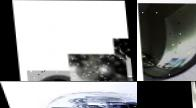ironball: (137, 2, 195, 81), (66, 53, 126, 81), (112, 37, 131, 74), (25, 69, 82, 81), (83, 96, 123, 104), (104, 101, 137, 107), (117, 76, 131, 81), (49, 106, 80, 107)
